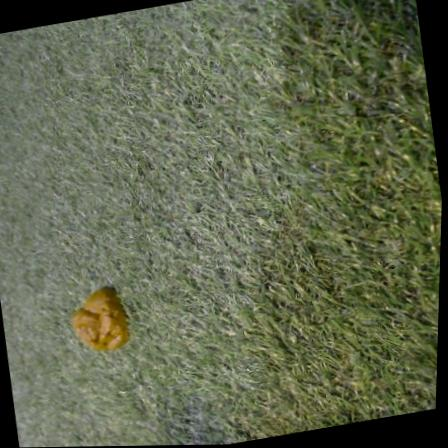dog-poop: (67, 278, 139, 359)
